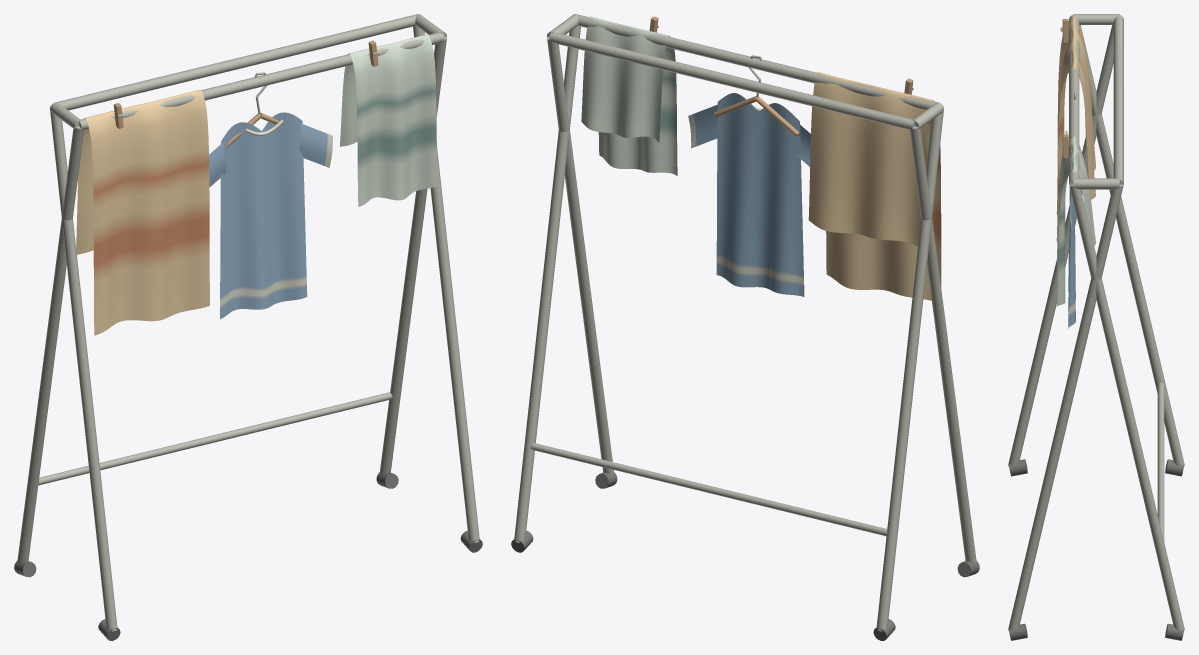
Rendered from family-laundry-rack-v2.glb.
3 renders of one model, left to right at view 1: azimuth 30°, elevation 25°; view 2: azimuth 150°, elevation 25°; view 3: azimuth 270°, elevation 25°, orthographic. The views are drawn at different scales.
Parts seen in each view (by area): view 1: Folded cotton towel (×2), Splayed leg (×4), Small blue cotton shirt, Laundry rail (×2), Lower brace, Short shirt sleeve; view 2: Folded cotton towel (×2), Splayed leg (×4), Small blue cotton shirt, Laundry rail (×2), Lower brace, Short shirt sleeve; view 3: Splayed leg (×4), Folded cotton towel (×2), Laundry rail (×2), Lower brace, End bridge (×2), Small blue cotton shirt.
Part boxes in pixels (x1=…): Folded cotton towel (×2): x1=76, y1=34, x2=437, y2=335; Splayed leg (×4): x1=17, y1=25, x2=479, y2=631; Small blue cotton shirt: x1=220, y1=112, x2=307, y2=319; Laundry rail (×2): x1=57, y1=14, x2=444, y2=129; Lower brace: x1=38, y1=392, x2=392, y2=485; Short shirt sleeve: x1=299, y1=123, x2=332, y2=167; Folded cotton towel (×2): x1=581, y1=16, x2=941, y2=300; Splayed leg (×4): x1=514, y1=25, x2=976, y2=631; Small blue cotton shirt: x1=716, y1=93, x2=804, y2=296; Laundry rail (×2): x1=549, y1=14, x2=936, y2=129; Lower brace: x1=530, y1=443, x2=887, y2=536; Short shirt sleeve: x1=688, y1=104, x2=722, y2=148; Splayed leg (×4): x1=1008, y1=25, x2=1184, y2=630; Folded cotton towel (×2): x1=1056, y1=16, x2=1095, y2=306; Laundry rail (×2): x1=1069, y1=15, x2=1123, y2=184; Lower brace: x1=1157, y1=382, x2=1164, y2=541; End bridge (×2): x1=1073, y1=14, x2=1119, y2=189; Small blue cotton shirt: x1=1068, y1=194, x2=1075, y2=328.
Bounding box in the file's own units: 0.944 × 1.22 × 0.4135.
